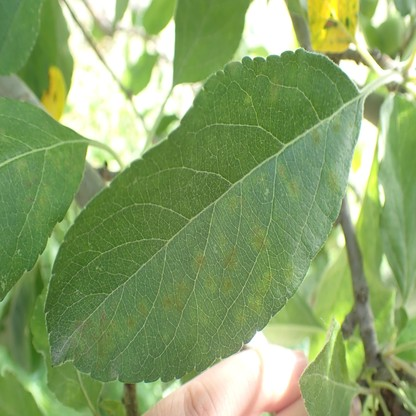powdery_mildew: (53, 332, 74, 368), (110, 363, 118, 378)
scab: (75, 311, 119, 358), (161, 277, 189, 317), (248, 275, 270, 313), (27, 176, 49, 207), (242, 174, 268, 193), (222, 245, 239, 272), (252, 226, 269, 252), (326, 169, 342, 193), (51, 150, 69, 170), (223, 196, 238, 216), (287, 176, 299, 198), (310, 127, 323, 147), (124, 316, 137, 334), (221, 279, 233, 298), (269, 76, 279, 98), (194, 255, 206, 273), (137, 298, 146, 322), (278, 161, 288, 181), (285, 261, 295, 281), (237, 308, 245, 327), (203, 277, 213, 290), (16, 156, 26, 168), (333, 119, 342, 131), (246, 96, 252, 106)
